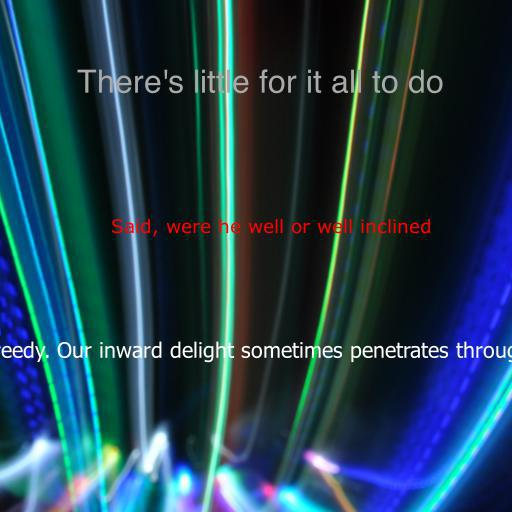SignPainter: (76, 69, 444, 94)
Tahoma: (0, 341, 512, 363)
Verdana: (110, 218, 432, 237)
